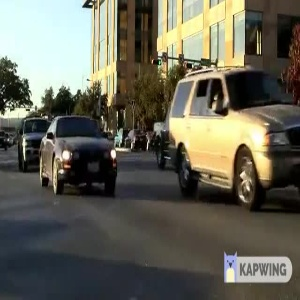car: (34, 113, 122, 207)
suv: (162, 69, 300, 203)
